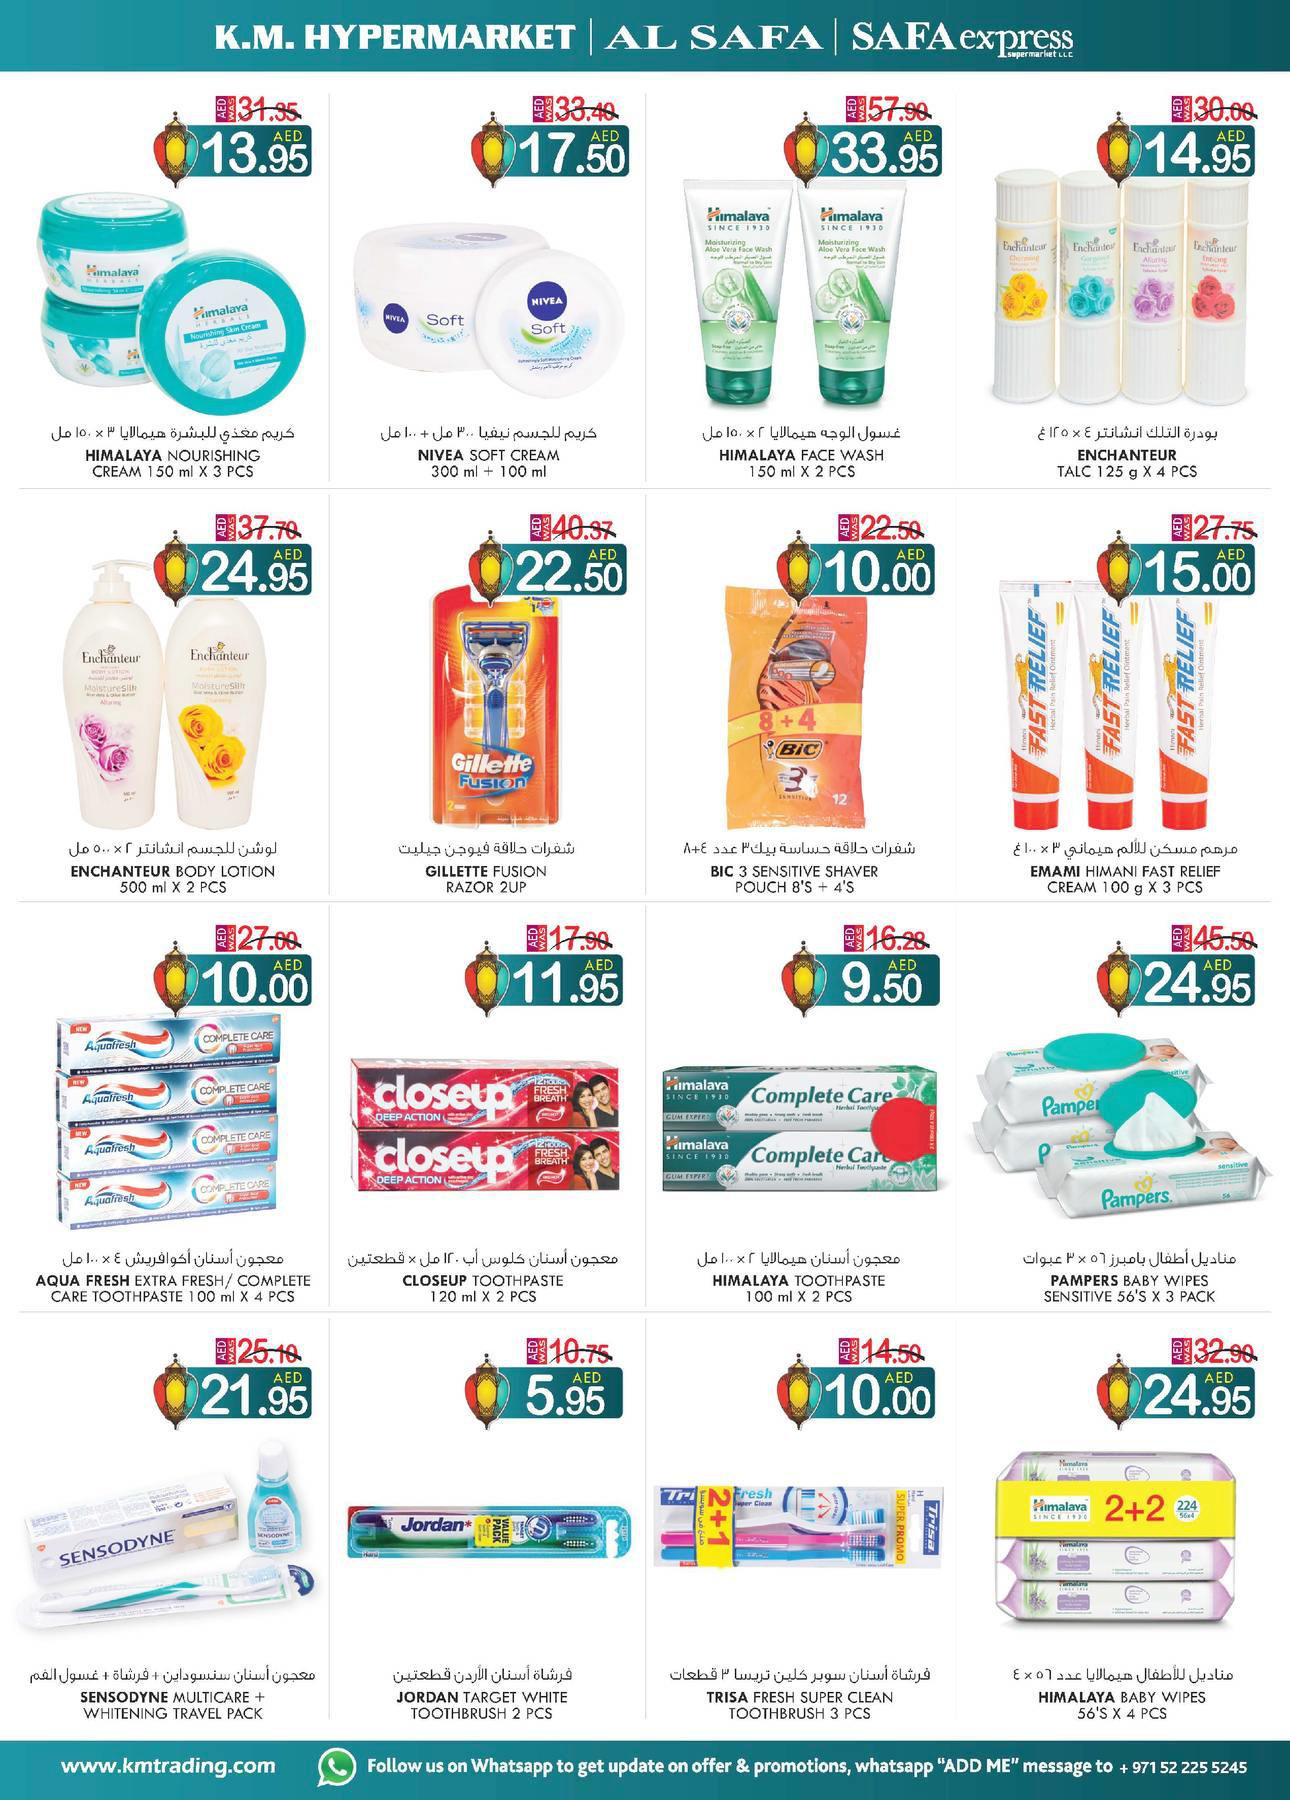text: (29, 1240, 318, 1321), (336, 1236, 631, 1314), (663, 1652, 942, 1730), (20, 1658, 325, 1727), (367, 413, 610, 490), (676, 827, 926, 901), (57, 827, 288, 906), (1004, 834, 1250, 906), (1014, 1239, 1243, 1314), (40, 421, 303, 486), (1007, 1660, 1243, 1732), (695, 414, 910, 488), (692, 1240, 907, 1312), (1028, 414, 1229, 488), (392, 829, 592, 903), (383, 1656, 582, 1729)
